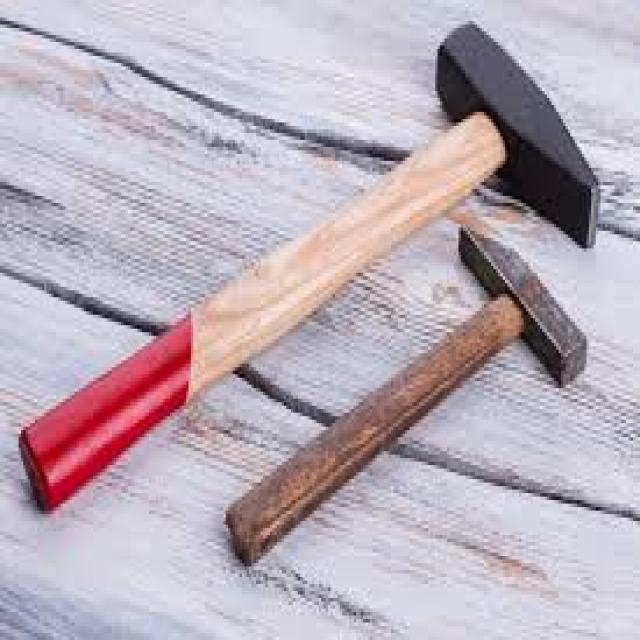Palu: (23, 19, 605, 517), (208, 218, 592, 572)
